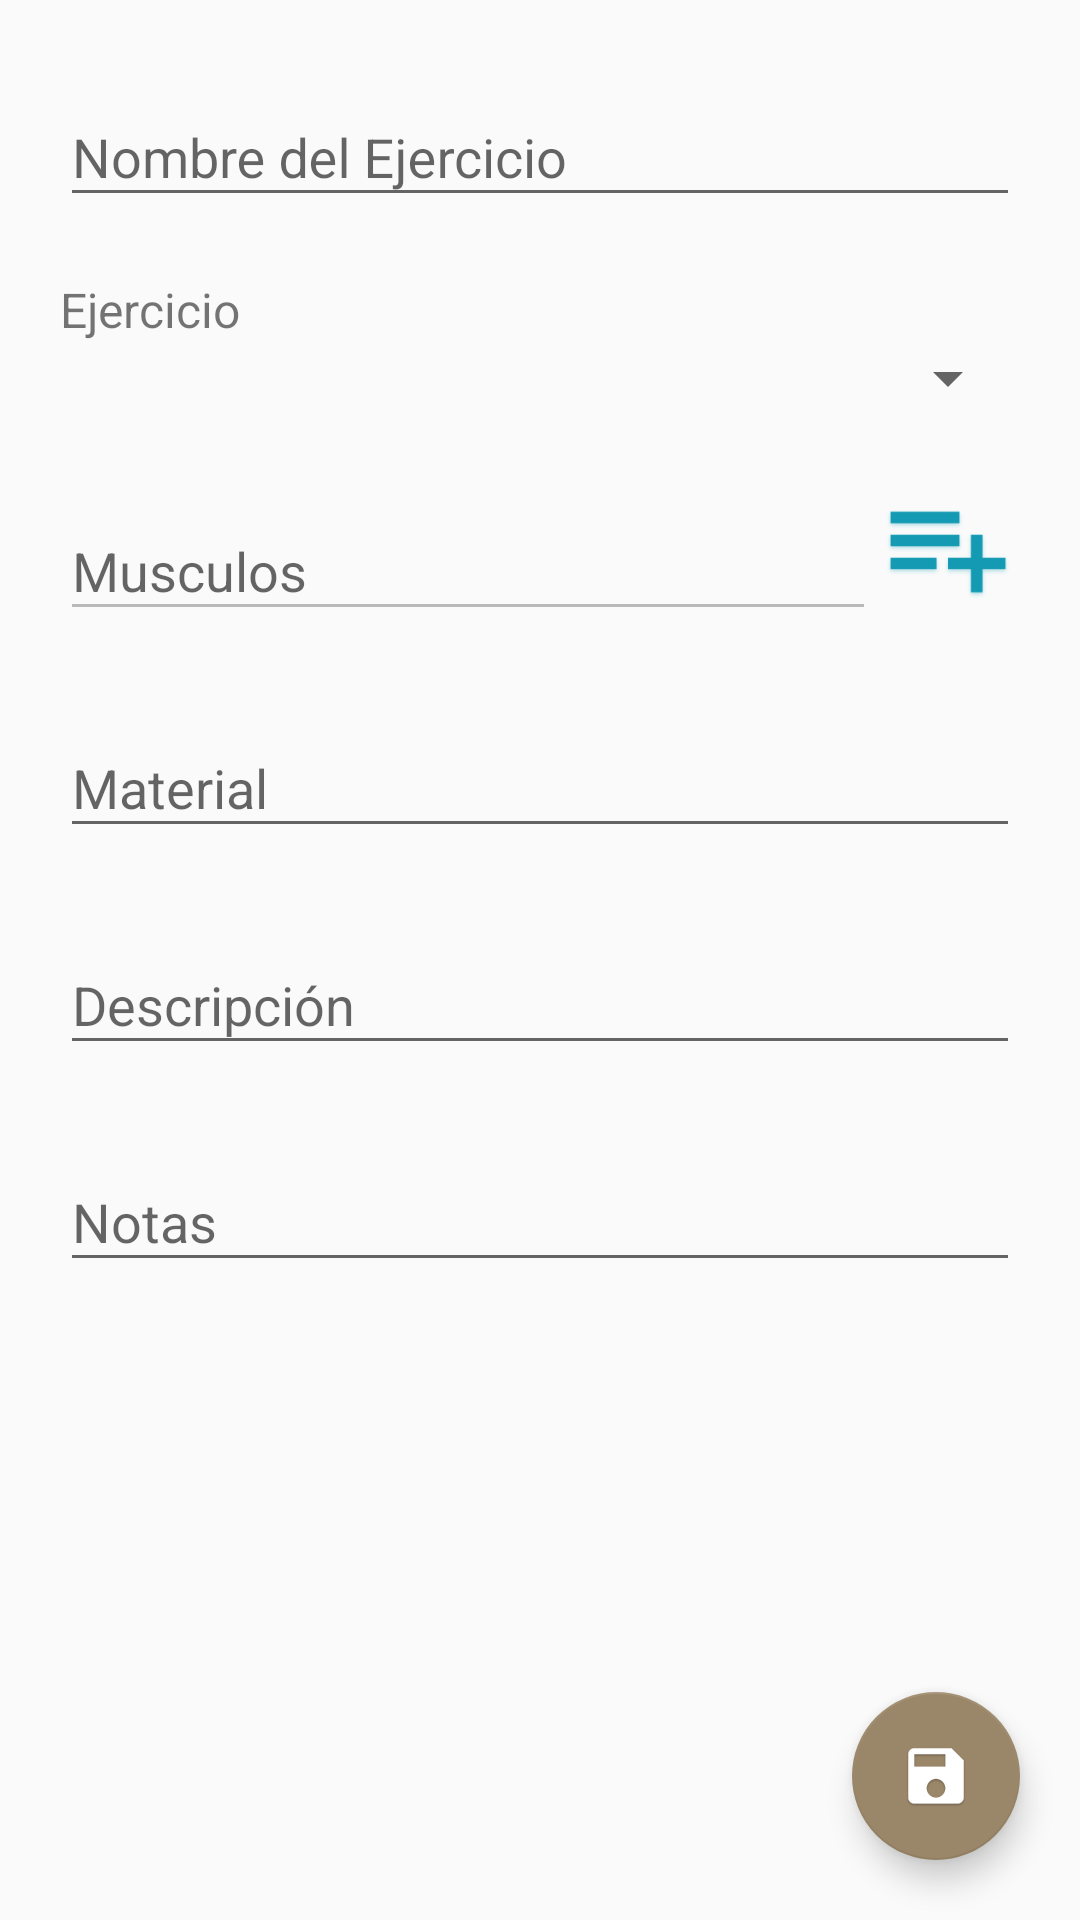

Icons on this 1080*1920 Android screen, each with the point to tap as (x,y):
listadd: (948,553)
